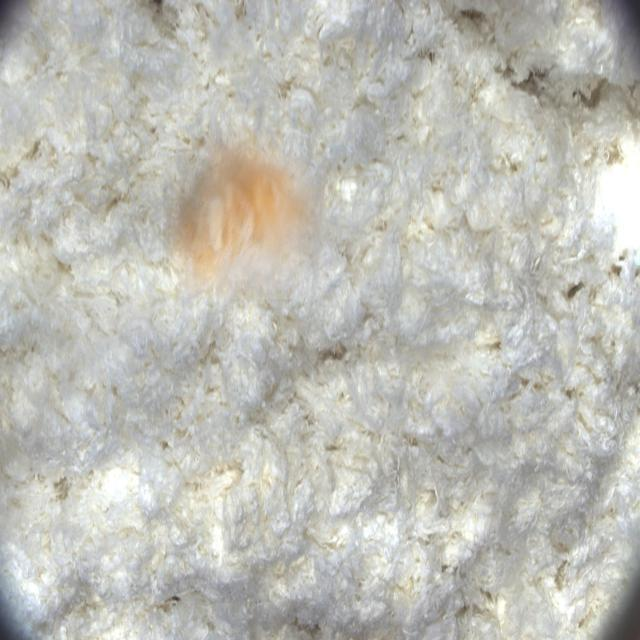dust: (163, 111, 337, 299)
